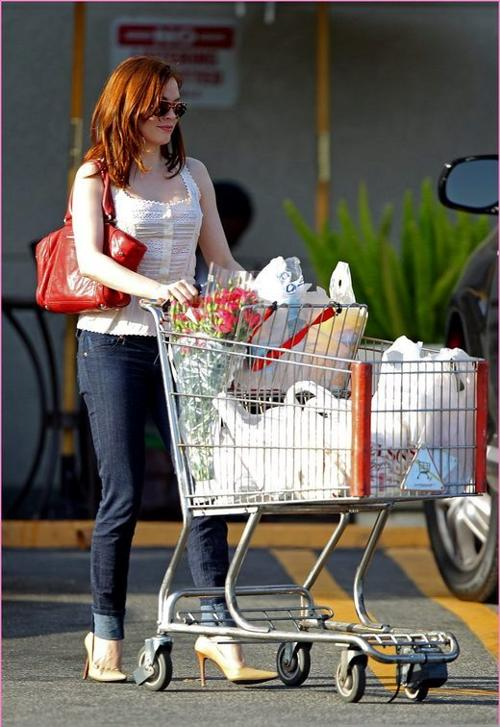person: (71, 55, 278, 686)
